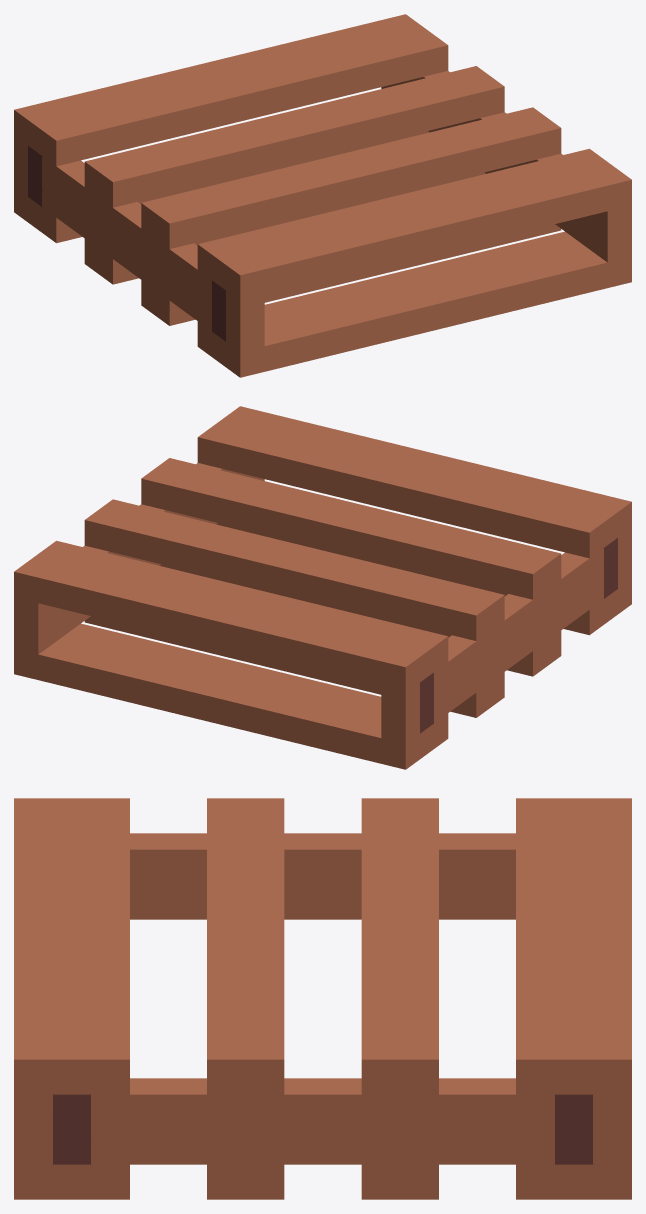
Rendered from Palett.fbx.
3 renders of one model, top to bottom at view 1: azimuth 30°, elevation 25°; view 2: azimuth 150°, elevation 25°; view 3: azimuth 270°, elevation 25°, orthographic. The views are drawn at different scales.
Parts seen in each view (by area): view 1: Palett; view 2: Palett; view 3: Palett.
Boxes of the visible parts, left/top/right/bottom form: Palett: left=14, top=14, right=631, bottom=377; Palett: left=14, top=406, right=631, bottom=769; Palett: left=14, top=798, right=631, bottom=1199.
Bounding box in the file's own units: 100 × 25 × 100.
